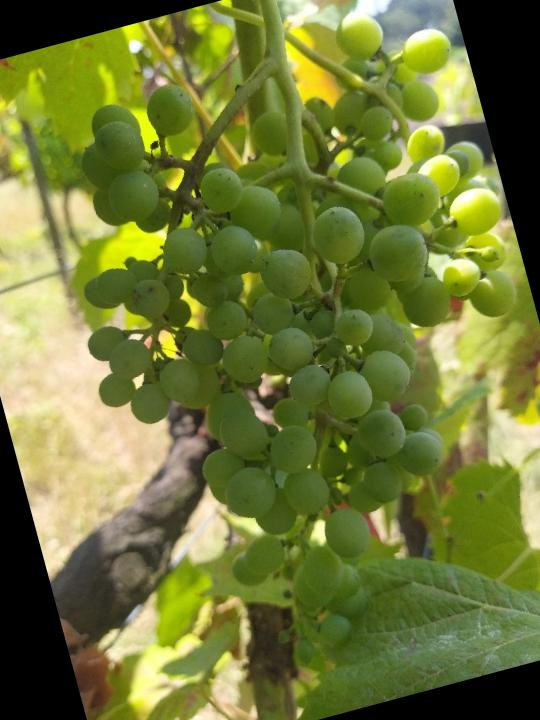grape: (16, 0, 540, 708)
